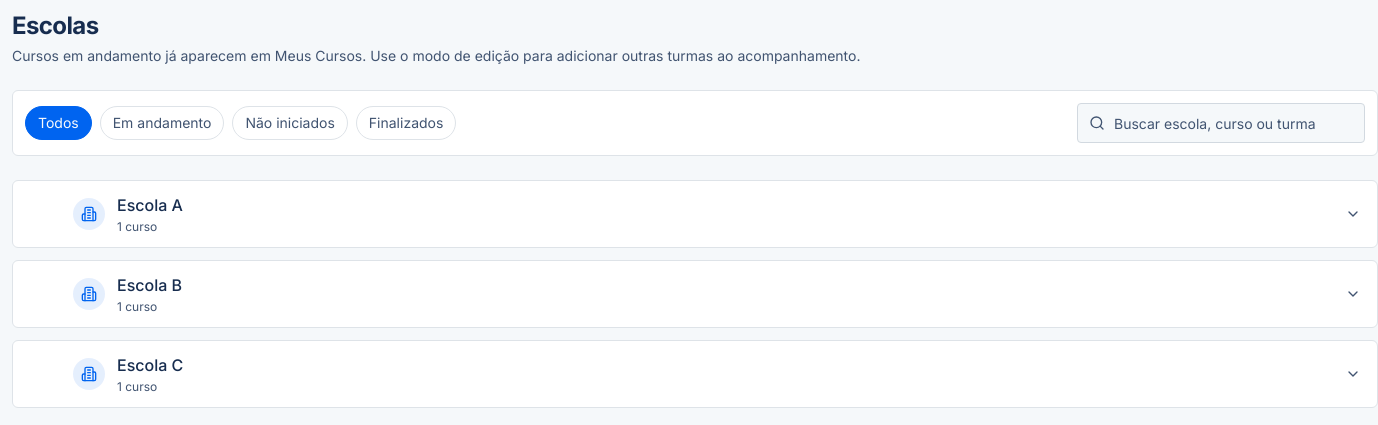
it: SchoolsPage › filters the complete schools catalog by lifecycle status and restores all schools
This screenshot has width=1378, height=425.
Expected: the text "Escola A" is shown, [117,195,183,215]
Expected: the text "Escola B" is shown, [117,275,182,295]
Click the button "Em andamento".
click(162, 123)  # box [100,106,224,140]
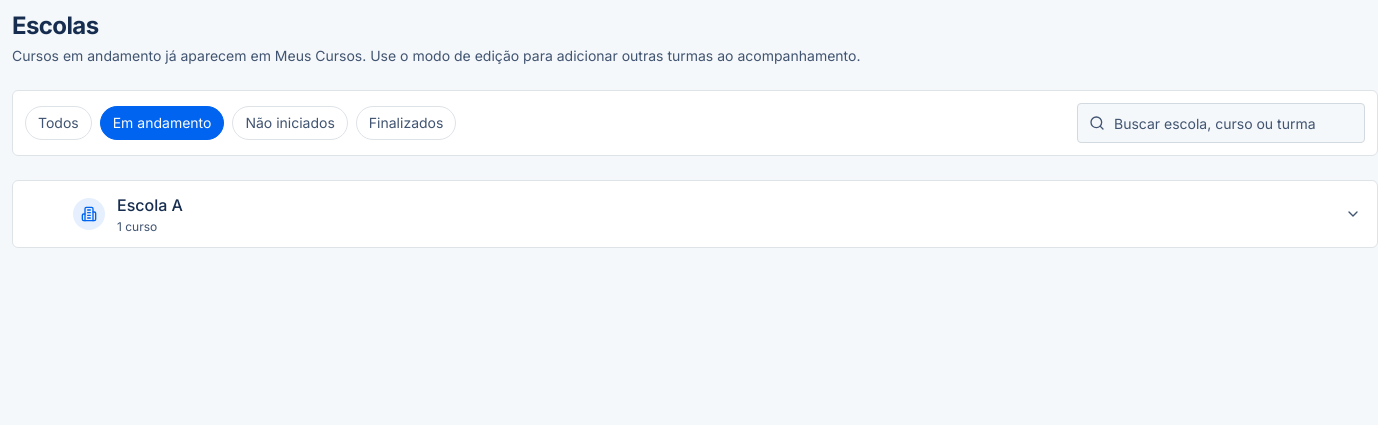
Expected: the text "Escola A" is shown, [117,195,183,215]
Expected: the heading "Escola B" is gone
Expected: the heading "Escola C" is gone
Click the button "Todos".
click(58, 123)  # box [25,106,92,140]
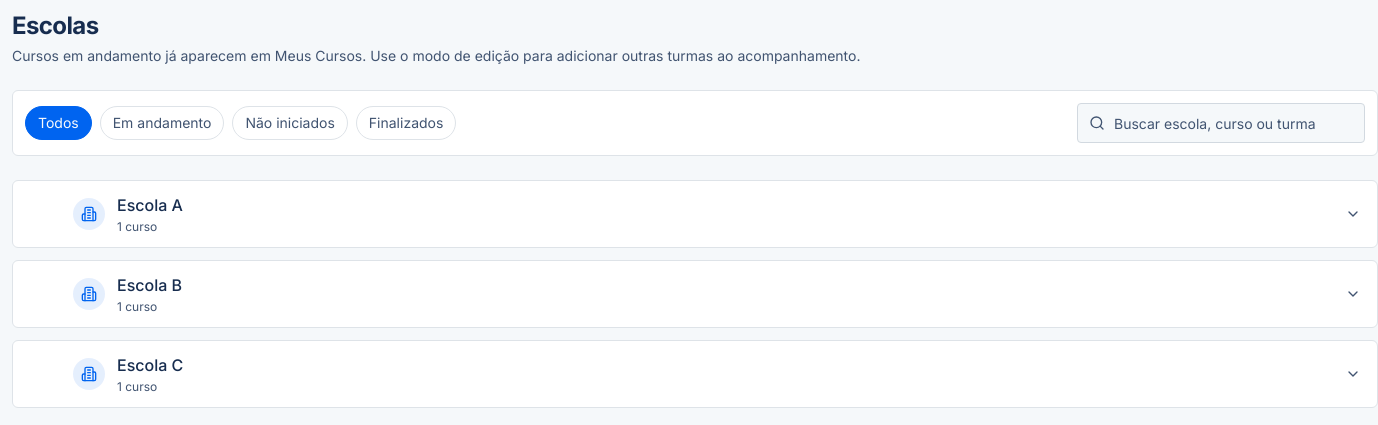
Expected: the text "Escola B" is shown, [117,275,182,295]
Expected: the text "Escola C" is shown, [117,355,183,375]
